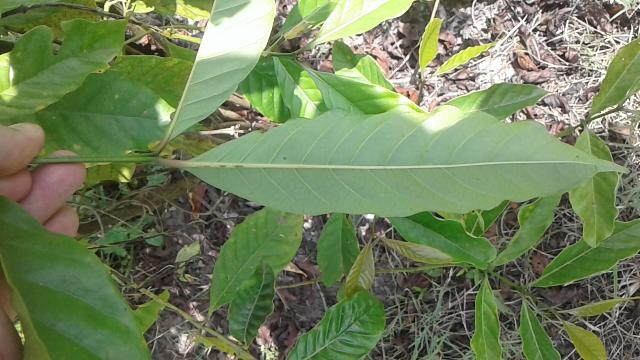healthy: (195, 103, 628, 220)
